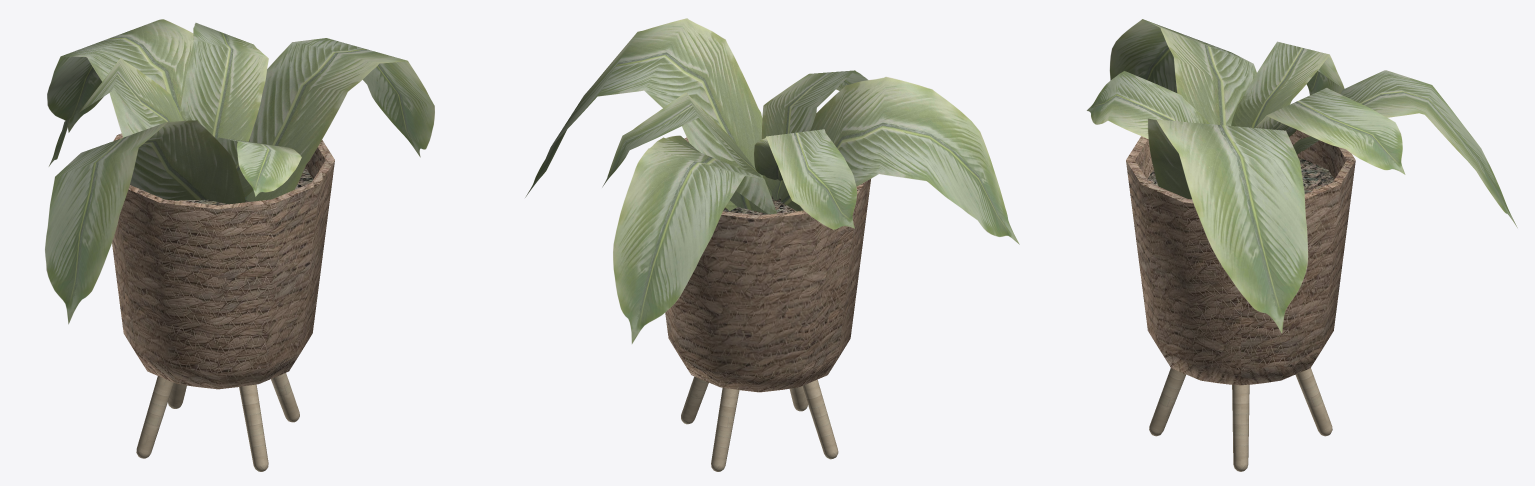
The model's file is Plant.glb.
3 views of the same model, side by side, from view 1: azimuth 30°, elevation 25°; view 2: azimuth 150°, elevation 25°; view 3: azimuth 270°, elevation 25° (orthographic). The views are drawn at different scales.
Parts seen in each view (by area): view 1: Plant; view 2: Plant; view 3: Plant.
Part boxes in pixels (x1,y1,x2,y2): Plant: [45, 19, 434, 471]; Plant: [525, 18, 1019, 471]; Plant: [1087, 19, 1517, 471].
Size of what is drawn, in the model's own units: 0.5249 by 0.4021 by 0.4552.
4 materials, 4 textured.
